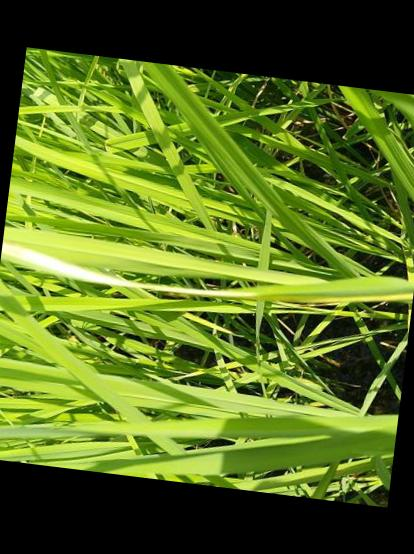Leaf Blight: (1, 240, 414, 302)
